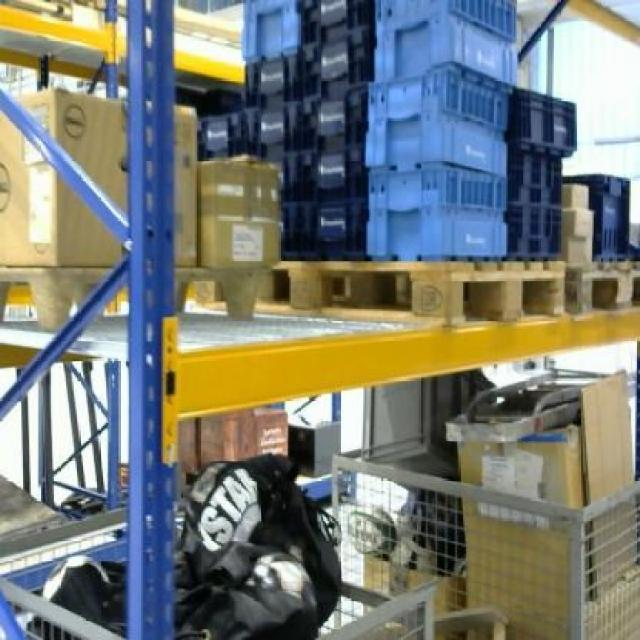box: (0, 85, 198, 268), (460, 436, 580, 615), (198, 155, 280, 271)
